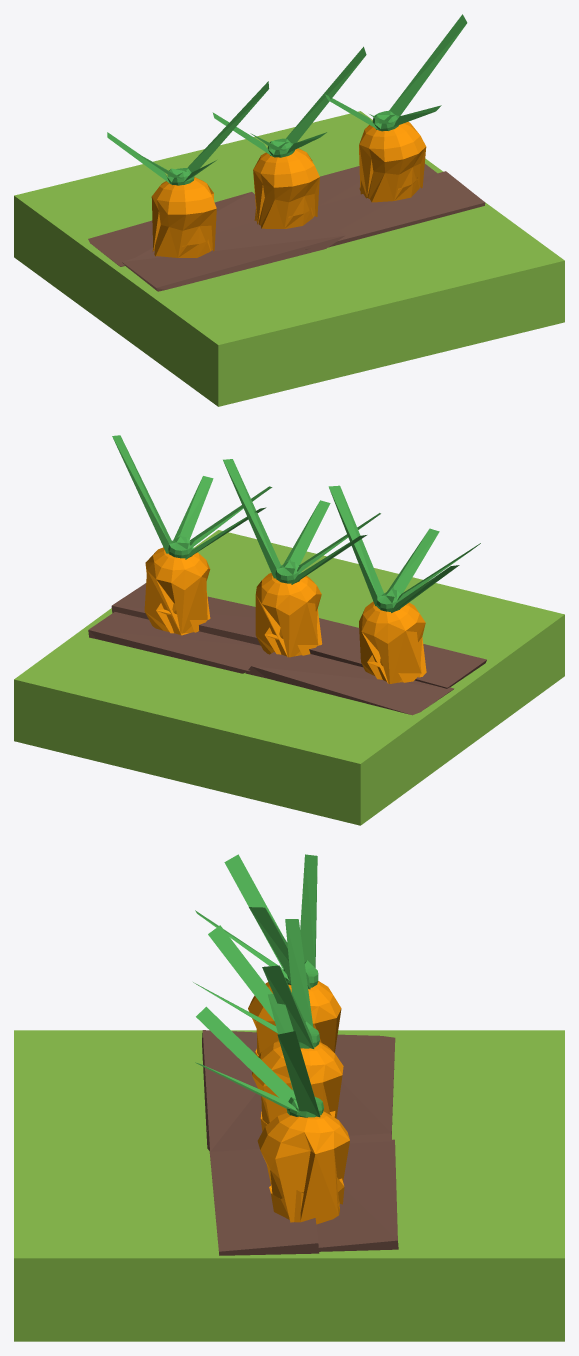
The picture shows the model from 3 angles, top to bottom: view 1: azimuth 30°, elevation 25°; view 2: azimuth 150°, elevation 25°; view 3: azimuth 270°, elevation 25°; orthographic projection. The views are drawn at different scales.
Visible parts, largest first — view 1: mesh_1537693769, group_833328968; view 2: mesh_1537693769, group_833328968; view 3: mesh_1537693769, group_833328968.
Boxes of the visible parts, box(x1,y1,x2,y2) form: mesh_1537693769: box(14, 111, 564, 406); group_833328968: box(88, 14, 485, 291); mesh_1537693769: box(14, 530, 564, 825); group_833328968: box(88, 435, 486, 715); mesh_1537693769: box(14, 1030, 564, 1341); group_833328968: box(193, 854, 398, 1255).
Size of the model in its own units: 47.67 by 30.29 by 48.
